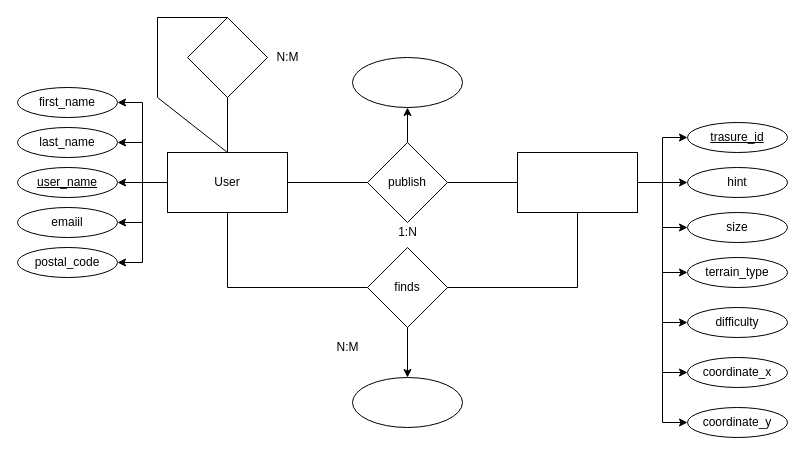
This 805x455 diagram has some shape labels left out. The box of each missing label's shape, as (x1, y1, x2, y2) in pixels:
datetime_found: (352, 376, 462, 428)
datetime_published: (352, 56, 462, 108)
friend of: (186, 16, 268, 98)
Treasure: (516, 152, 638, 212)
